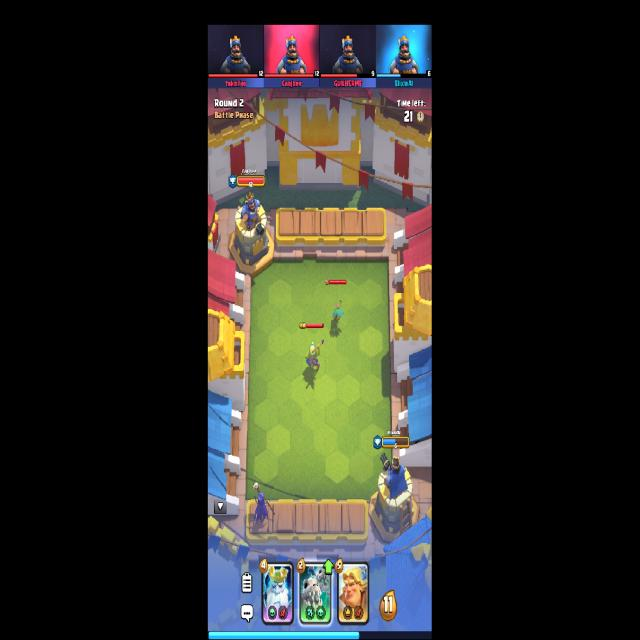card_golden_knight: (337, 560, 369, 626)
card_royal_ghost: (261, 560, 294, 624)
card_skeleton_dragon: (298, 559, 332, 625)
dart_goblin: (332, 299, 344, 323)
spear_goblin: (305, 338, 325, 372)
witch: (253, 483, 275, 524)
